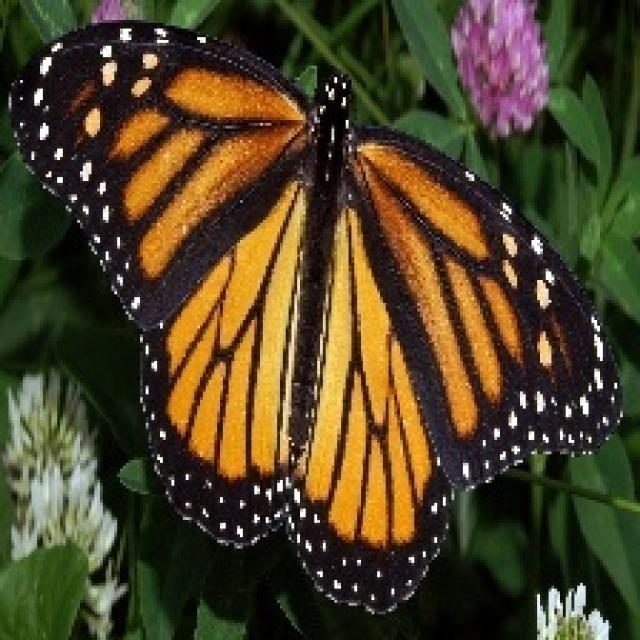butterfly: (6, 14, 623, 614)
